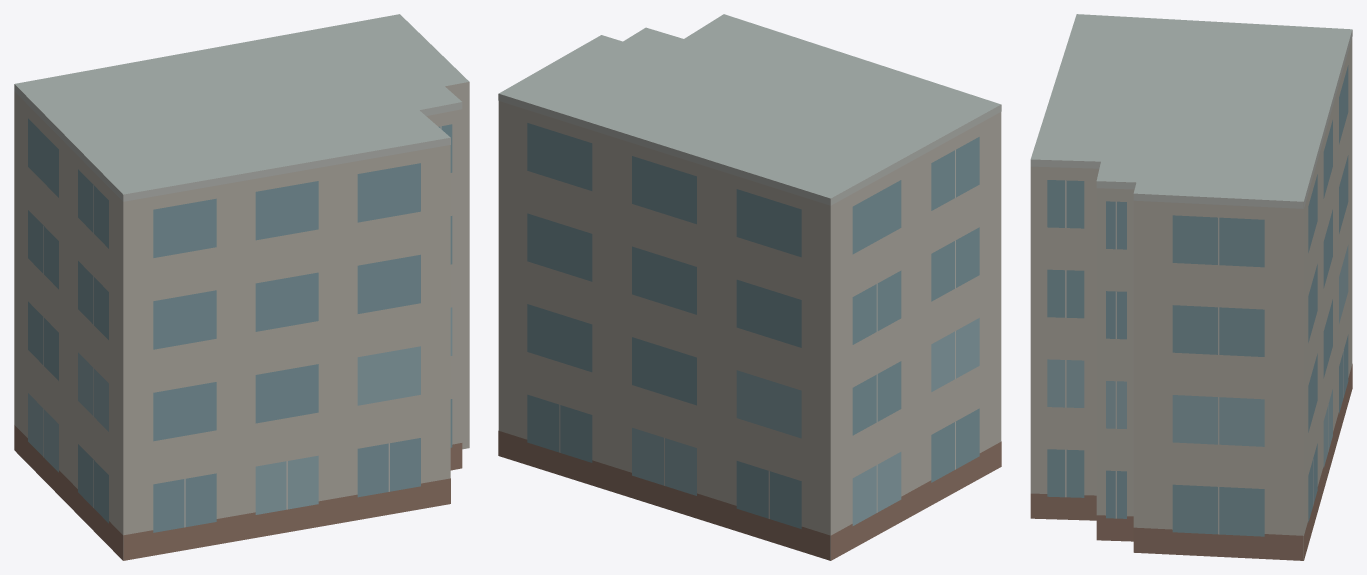
The model's file is survey-upis-32974673.glb.
3 views of the same model, side by side, from view 1: azimuth 30°, elevation 25°; view 2: azimuth 150°, elevation 25°; view 3: azimuth 270°, elevation 25° (orthographic). The views are drawn at different scales.
Visible parts, largest first — view 1: survey-upis-32974673.tmp; view 2: survey-upis-32974673.tmp; view 3: survey-upis-32974673.tmp.
Part boxes in pixels (x1,y1,x2,y2): survey-upis-32974673.tmp: (14, 14, 469, 560); survey-upis-32974673.tmp: (498, 14, 1001, 560); survey-upis-32974673.tmp: (1030, 14, 1352, 560).
Size of the model in its own units: 13.86 by 12.35 by 10.05.
